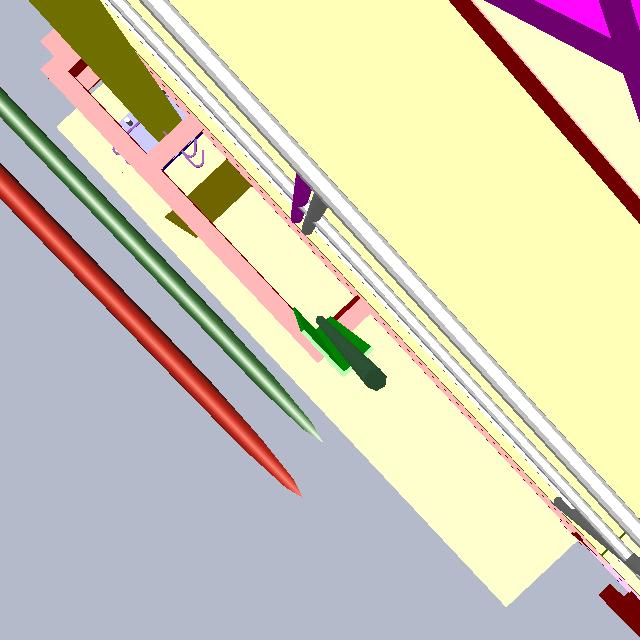Poste: (313, 311, 393, 396)
Soporte: (282, 293, 373, 390)
